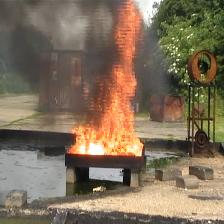fire: (66, 0, 144, 157)
